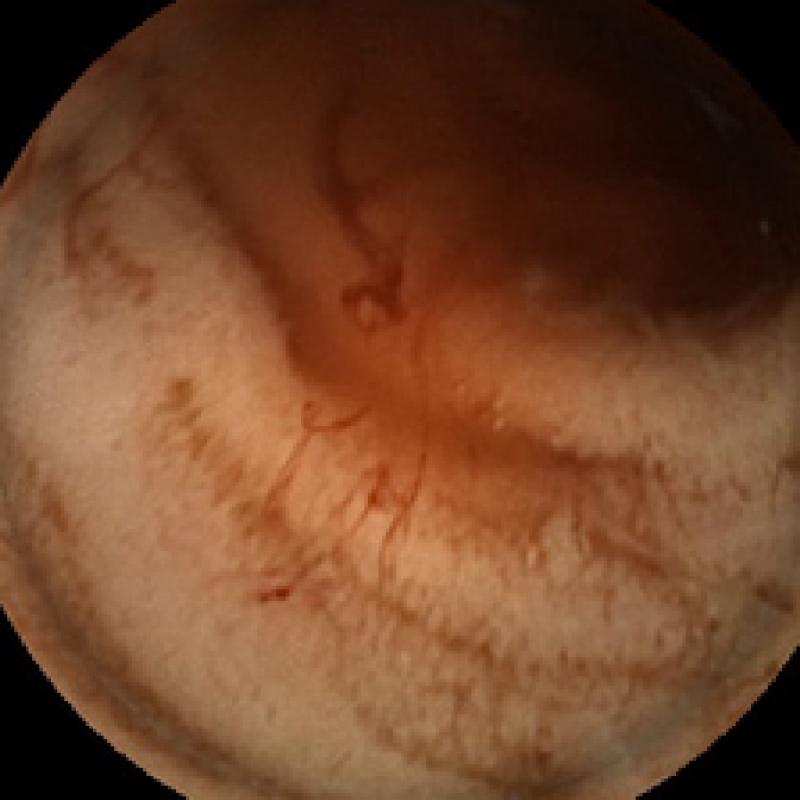bleeding: (253, 68, 443, 603)
